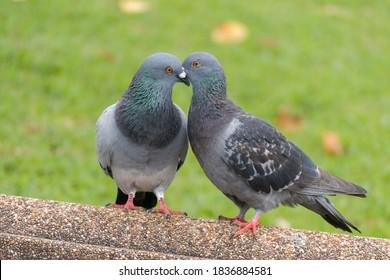Flying Rat: (185, 52, 366, 241), (98, 54, 185, 216)
